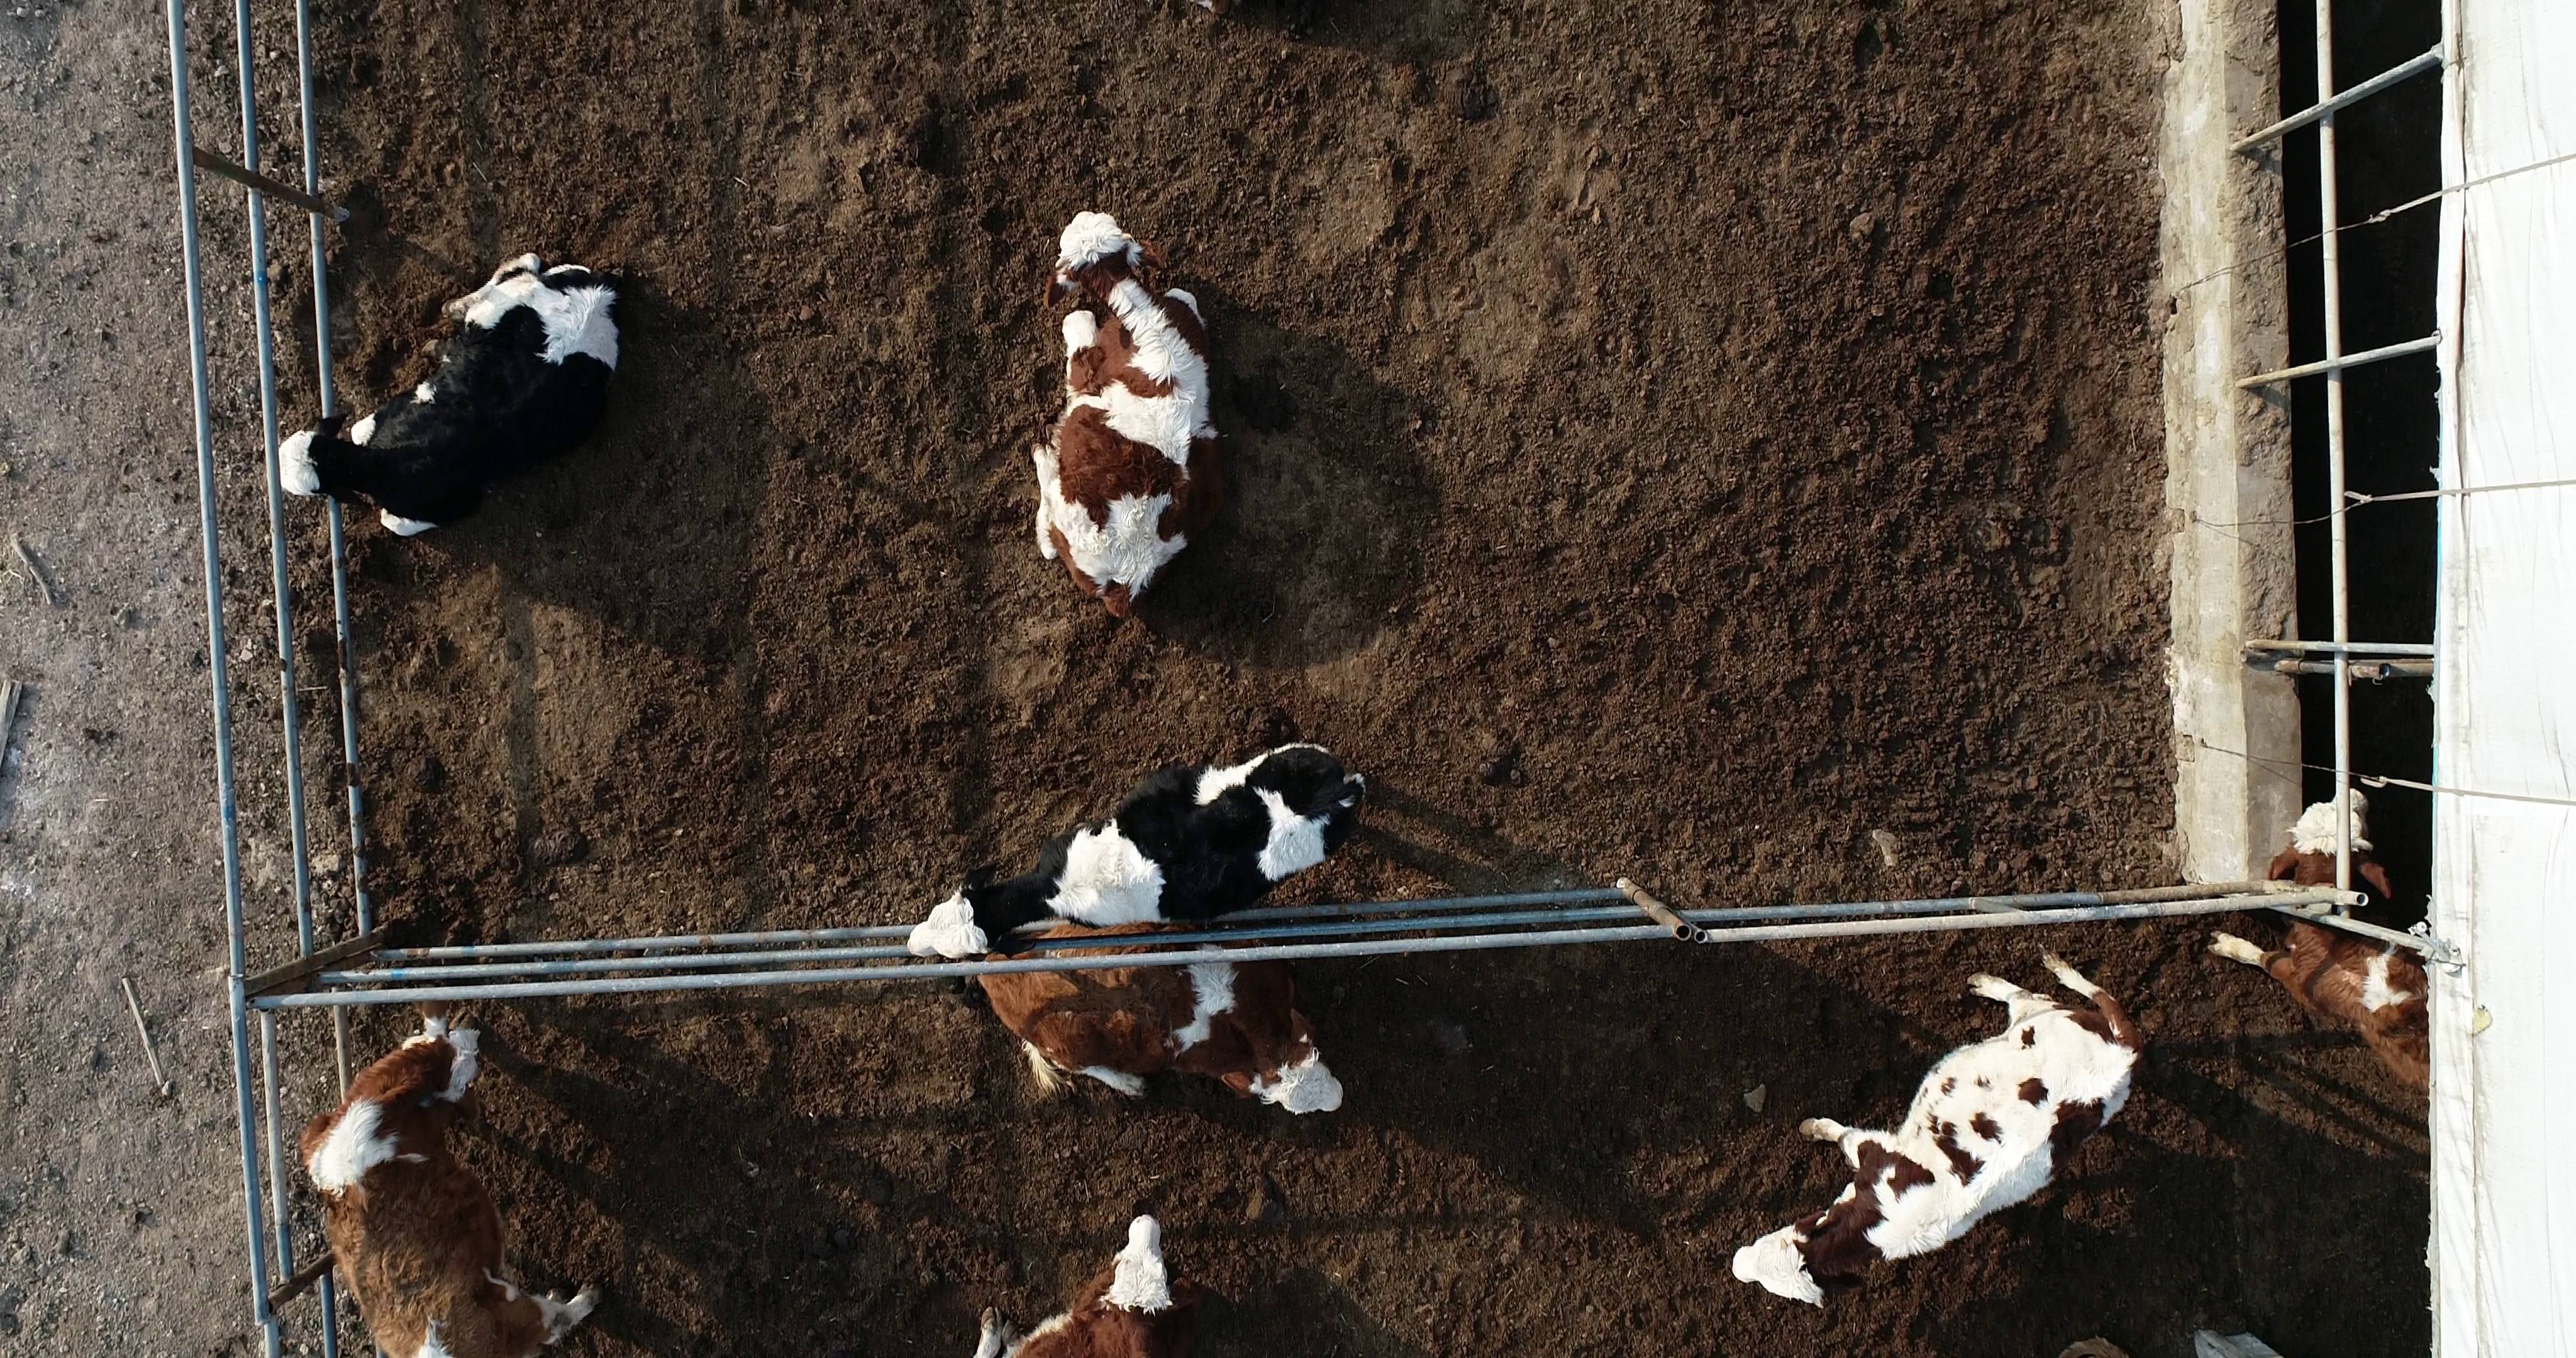cattle: (1728, 942, 2155, 1314), (269, 245, 634, 547), (900, 738, 1371, 963), (1024, 201, 1230, 622)
